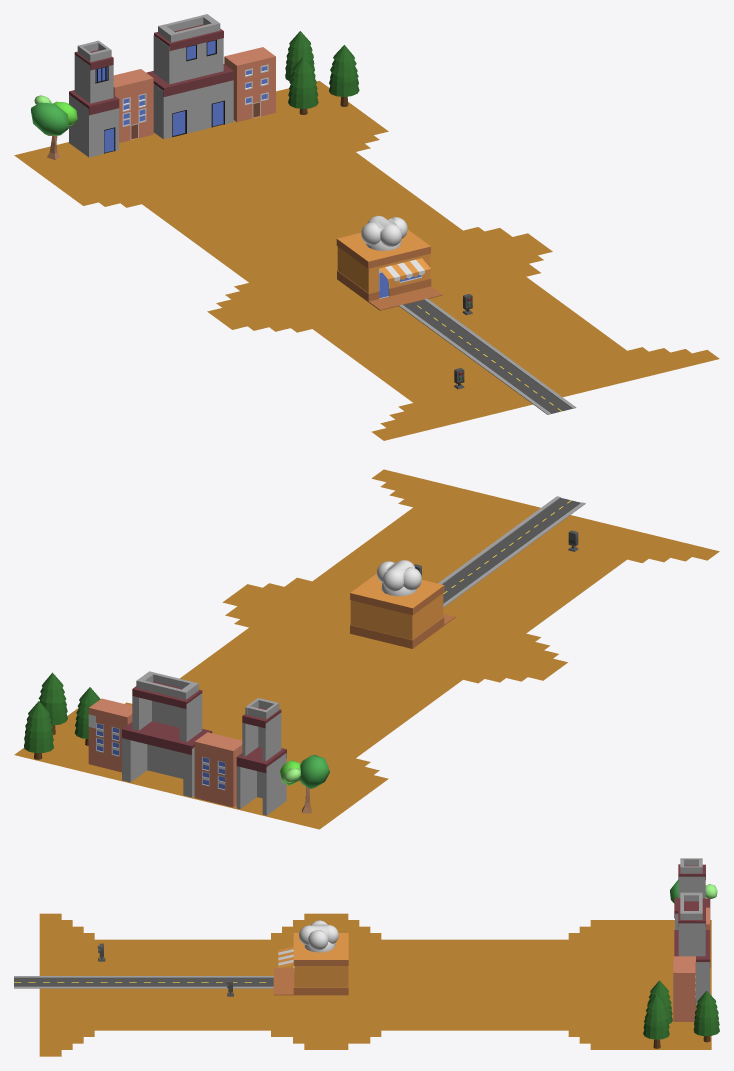
Rendered from Fase central.fbx.
3 views of the same model, one above another, from view 1: azimuth 30°, elevation 25°; view 2: azimuth 150°, elevation 25°; view 3: azimuth 270°, elevation 25° (orthographic). The views are drawn at different scales.
Parts seen in each view (by area): view 1: Plano central, Prédios.004, Restaurante, Prédios.002, Rua Reta, Prédios.005, Prédios.003, Folhas 1, Chapeu, Arvore M.002, Arvore M.001, Arvore M.003; view 2: Plano central, Prédios.004, Restaurante, Prédios.002, Rua Reta, Prédios.003, Prédios.005, Chapeu, Arvore M.003, Folhas 1, Arvore M.002, Arvore M.001; view 3: Plano central, Restaurante, Rua Reta, Prédios.004, Prédios.005, Prédios.002, Arvore M.002, Chapeu, Arvore M.003, Arvore M.001.
Part boxes in pixels (left/top/right/bottom): Plano central: left=14, top=81, right=719, bottom=440; Prédios.004: left=146, top=14, right=233, bottom=139; Restaurante: left=336, top=229, right=442, bottom=310; Prédios.002: left=69, top=40, right=119, bottom=157; Rua Reta: left=398, top=298, right=576, bottom=414; Prédios.005: left=224, top=47, right=275, bottom=121; Prédios.003: left=113, top=69, right=153, bottom=142; Folhas 1: left=31, top=95, right=77, bottom=135; Chapeu: left=361, top=215, right=407, bottom=250; Arvore M.002: left=329, top=45, right=359, bottom=106; Arvore M.001: left=288, top=56, right=318, bottom=114; Arvore M.003: left=285, top=31, right=315, bottom=81; Plano central: left=14, top=469, right=719, bottom=829; Prédios.004: left=122, top=671, right=212, bottom=797; Restaurante: left=350, top=573, right=455, bottom=648; Prédios.002: left=236, top=698, right=286, bottom=815; Rua Reta: left=438, top=496, right=585, bottom=607; Prédios.003: left=194, top=732, right=242, bottom=807; Prédios.005: left=88, top=698, right=132, bottom=772; Chapeu: left=376, top=560, right=421, bottom=596; Arvore M.003: left=24, top=701, right=53, bottom=759; Folhas 1: left=279, top=755, right=329, bottom=788; Arvore M.002: left=38, top=672, right=67, bottom=735; Arvore M.001: left=74, top=687, right=100, bottom=745; Plano central: left=39, top=913, right=711, bottom=1056; Restaurante: left=273, top=933, right=348, bottom=995; Rua Reta: left=14, top=976, right=273, bottom=988; Prédios.004: left=674, top=892, right=710, bottom=1004; Prédios.005: left=673, top=956, right=695, bottom=1021; Prédios.002: left=674, top=858, right=710, bottom=929; Arvore M.002: left=643, top=994, right=669, bottom=1048; Chapeu: left=299, top=920, right=338, bottom=952; Arvore M.003: left=693, top=990, right=719, bottom=1042; Arvore M.001: left=647, top=980, right=672, bottom=1023.
Size of the model in its own units: 4047 by 1148 by 8436.
